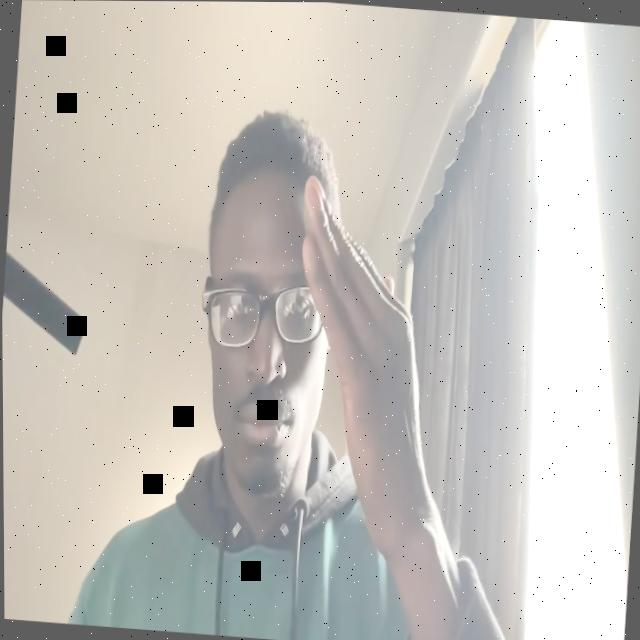Paper: (277, 173, 448, 558)
